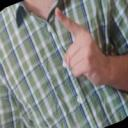hand: (55, 7, 108, 87)
